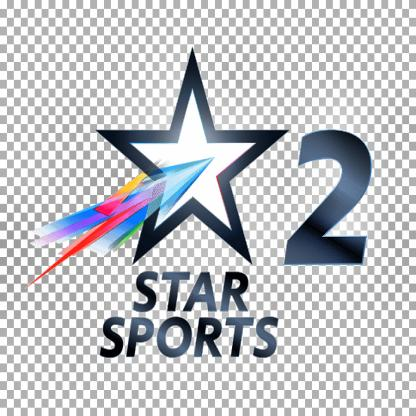Star Sports: (57, 32, 285, 366)
